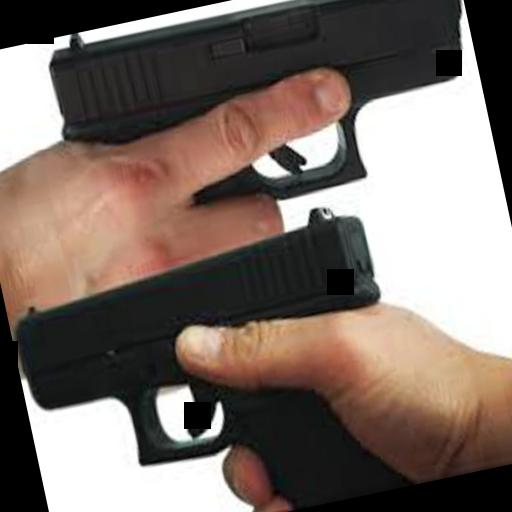Handgun: (0, 192, 420, 512), (29, 0, 486, 243)
